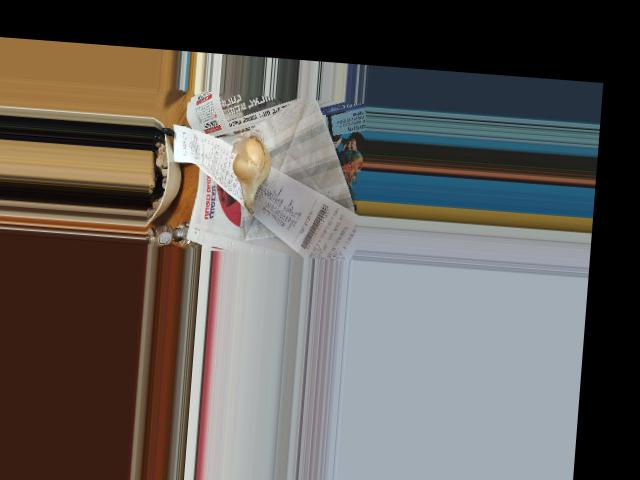onion: (233, 136, 271, 193)
